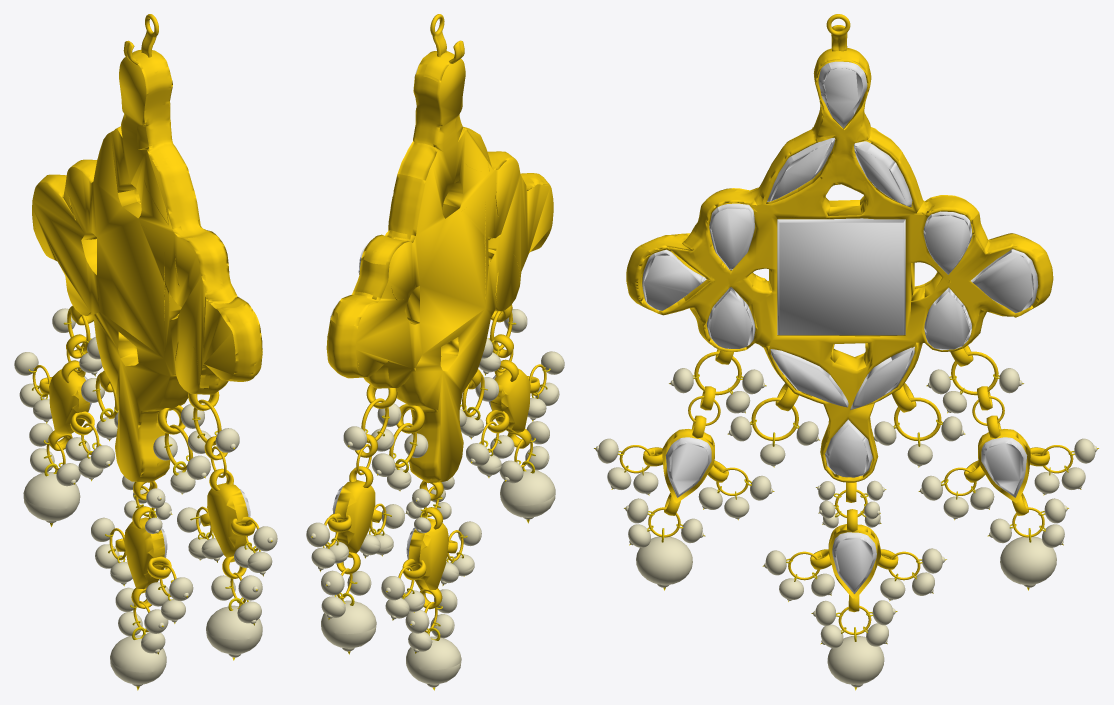
The model's file is ear.gltf.
3 renders of one model, left to right at view 1: azimuth 30°, elevation 25°; view 2: azimuth 150°, elevation 25°; view 3: azimuth 270°, elevation 25°, orthographic.
Visible parts, largest first — view 1: Plane007; view 2: Plane007; view 3: Plane007.
Part boxes in pixels (bbox=[...]): Plane007: bbox=[14, 14, 277, 690]; Plane007: bbox=[306, 14, 564, 690]; Plane007: bbox=[594, 14, 1098, 690].
Size of the model in its own units: 0.0971 by 1.29 by 0.8699.
Materials: 5 (1 with a texture image).
